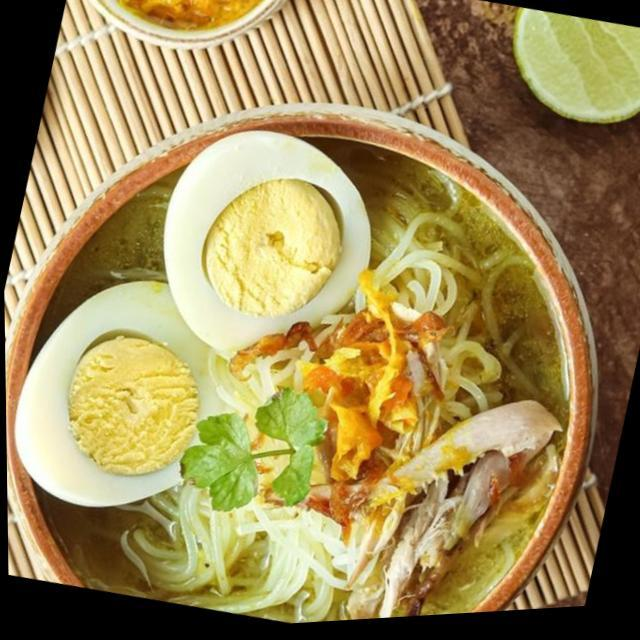Soto: (14, 119, 585, 620)
